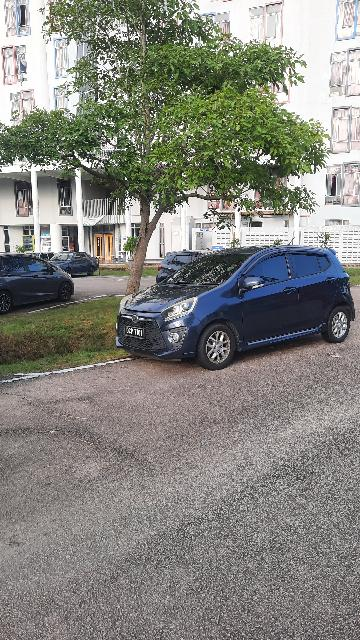License_Plate: (118, 324, 152, 342)
car: (117, 242, 360, 371), (1, 244, 81, 313)
